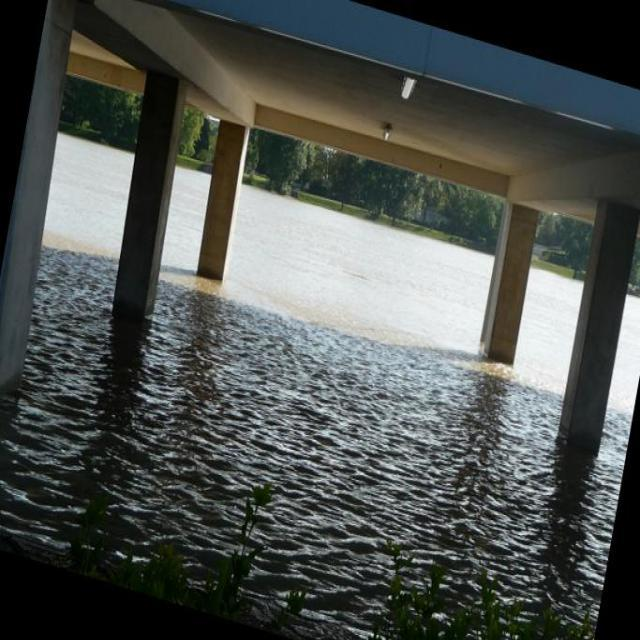flood: (0, 126, 639, 639)
